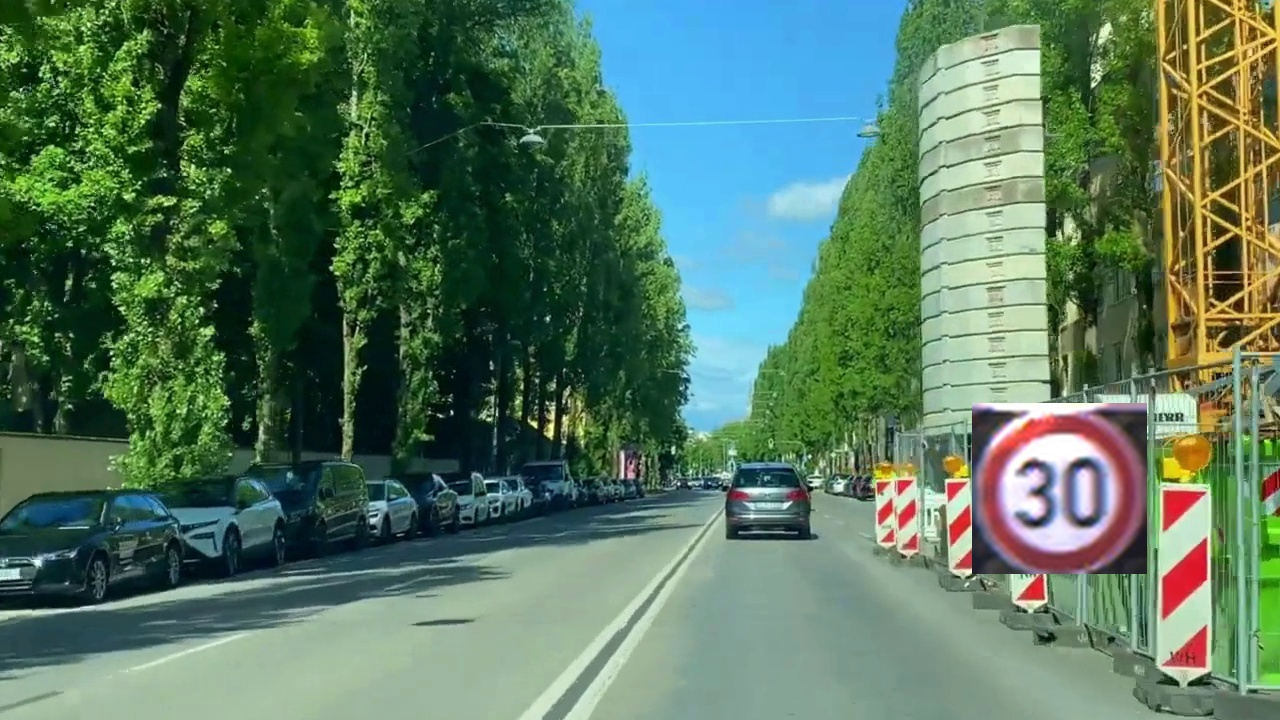Speed 30: (972, 403, 1147, 574)
